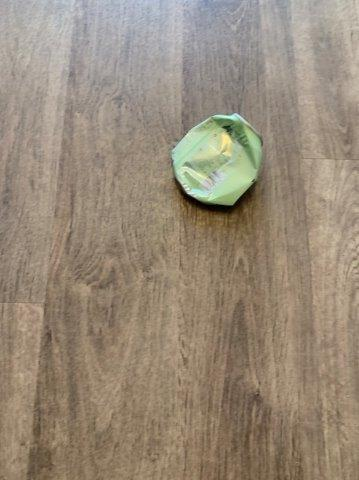kaleng: (173, 115, 260, 206)
